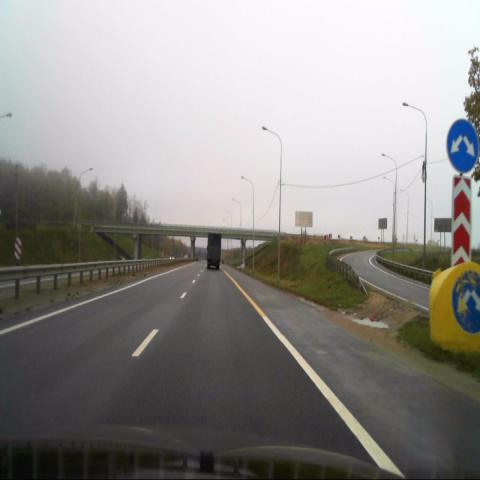4_2_3: (448, 119, 479, 174)
